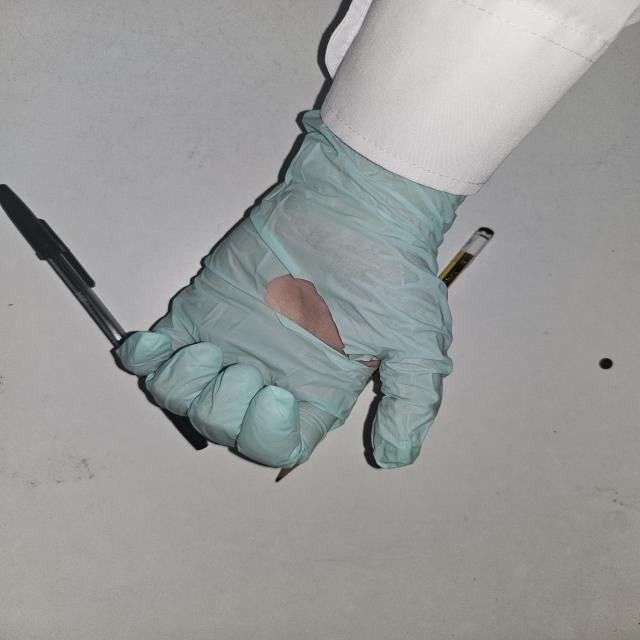gloves_damaged: (112, 103, 458, 478)
